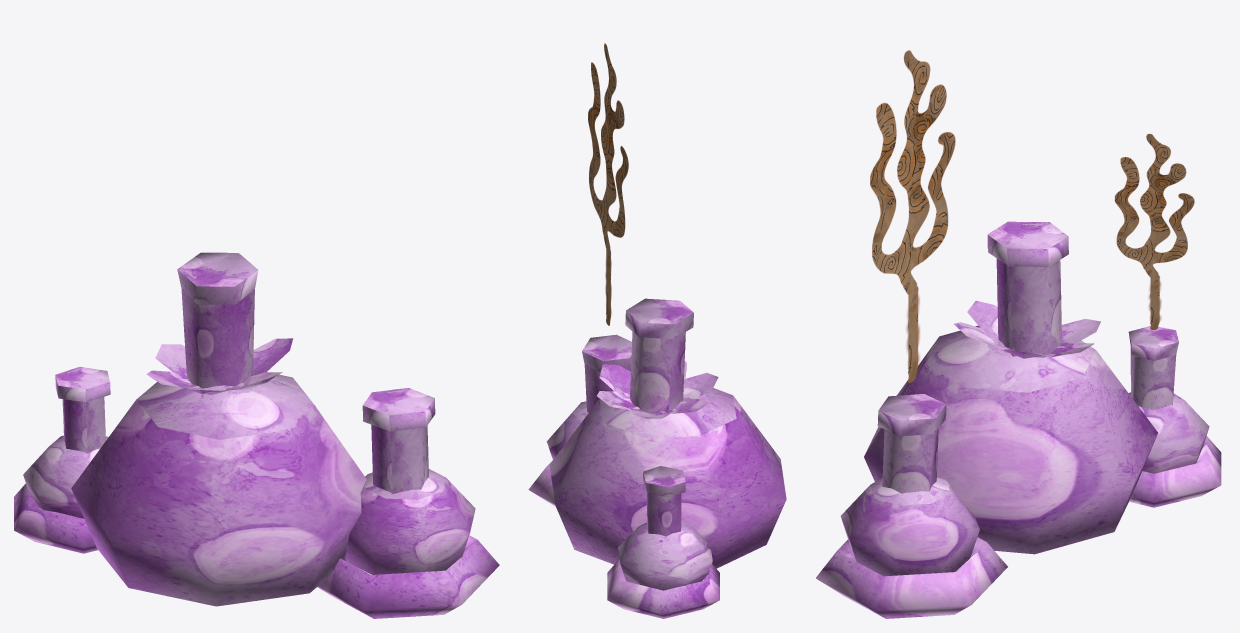
File: entity71874.gltf
The picture shows the model from 3 angles, left to right: view 1: azimuth 30°, elevation 25°; view 2: azimuth 150°, elevation 25°; view 3: azimuth 270°, elevation 25°; orthographic projection. The views are drawn at different scales.
Parts seen in each view (by area): view 1: node_Flower_02_b; view 2: node_Flower_02_b; view 3: node_Flower_02_b.
Part boxes in pixels (x1=…): node_Flower_02_b: x1=14, y1=252, x2=499, y2=618; node_Flower_02_b: x1=528, y1=43, x2=786, y2=618; node_Flower_02_b: x1=816, y1=50, x2=1221, y2=618.
Size of what is drawn, in the model's own units: 0.4915 by 0.7849 by 0.5256.
